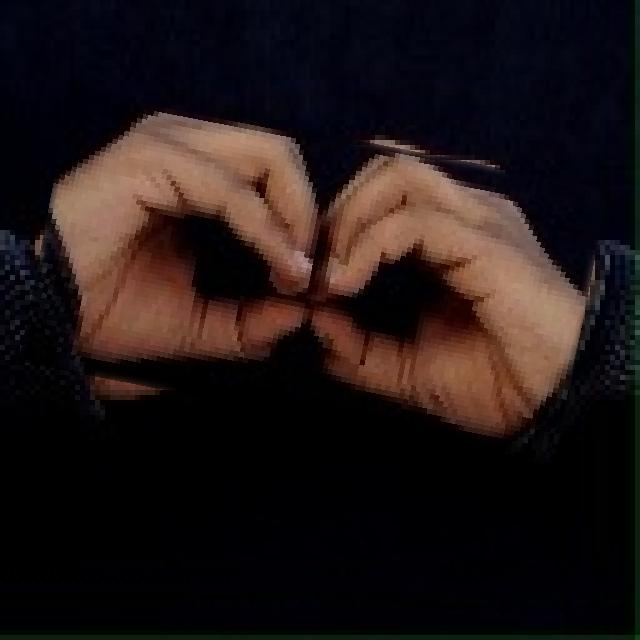B: (30, 110, 597, 442)
